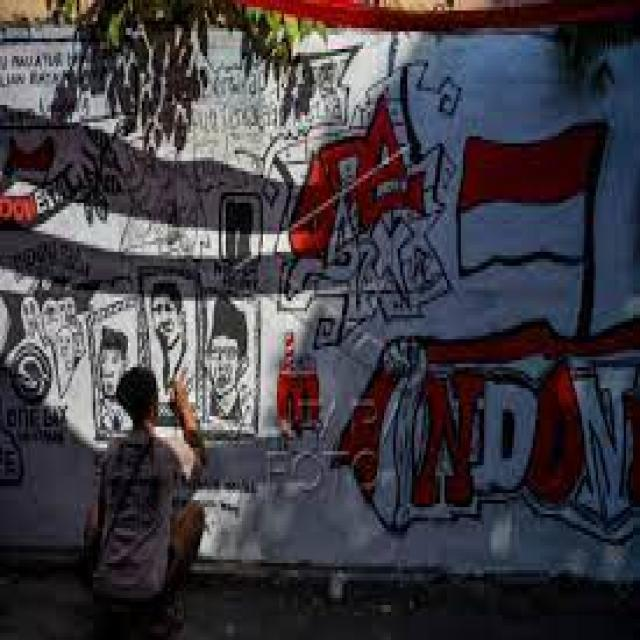-: (1, 42, 366, 484), (336, 116, 640, 546), (262, 58, 460, 346), (274, 326, 326, 502)
